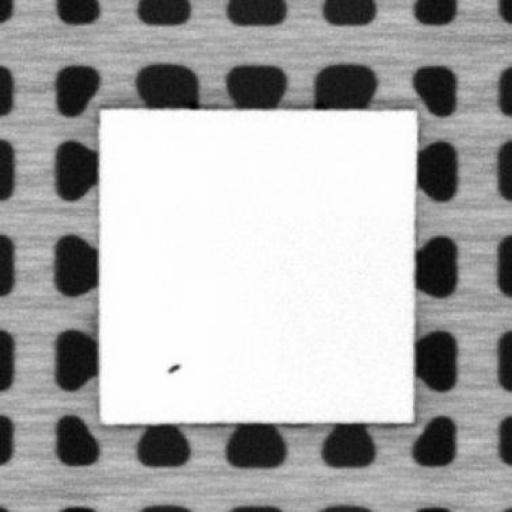DIE_INK: (164, 358, 181, 376)
